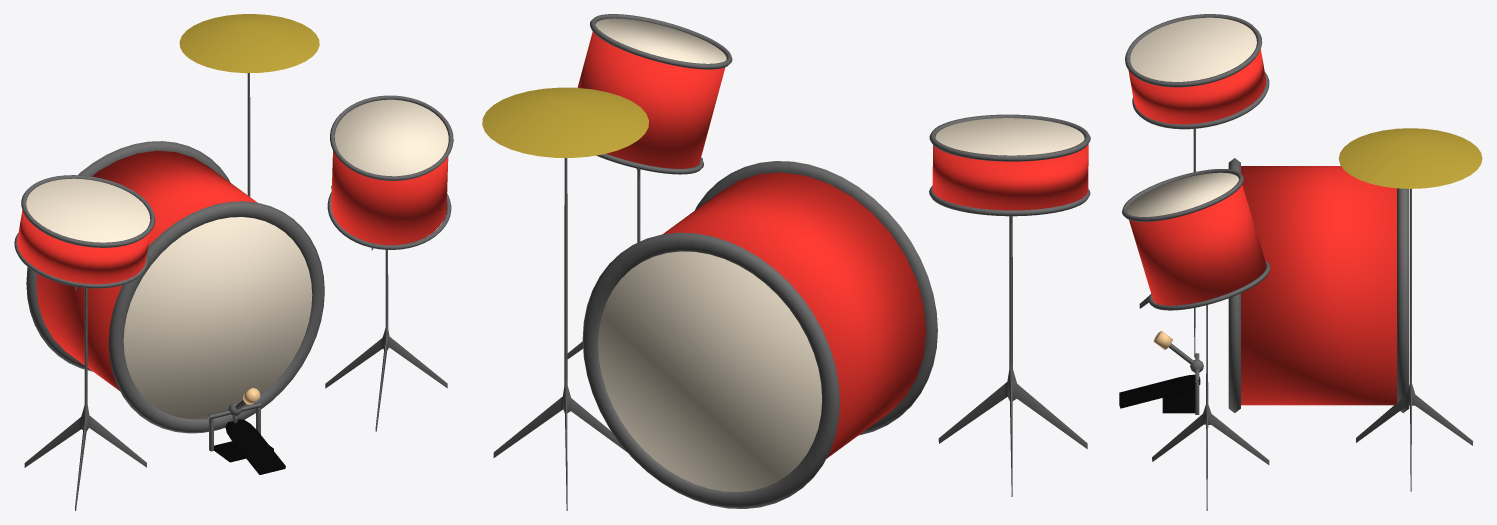
The model's file is drums2.fbx.
3 views of the same model, side by side, from view 1: azimuth 30°, elevation 25°; view 2: azimuth 150°, elevation 25°; view 3: azimuth 270°, elevation 25° (orthographic). The views are drawn at different scales.
Visible parts, largest first — view 1: Kick, dunno, some drum, Snare, rim 2, Cone, rim 1, Cube, Cube.001, Cube.003, rim 1.001, Torus.002, Torus.001 (+1 smaller); view 2: Kick, dunno, some drum, rim 1, Snare, Cone, rim 2, Cube, Cube.002, rim 1.001, Torus.002, rim 2.001, Torus.001; view 3: Kick, dunno, some drum, Snare, Cone, rim 1, Cube.002, rim 1.001, rim 2, Cube.001, Torus.002, Cube.003, rim 2.001 (+2 smaller).
Boxes of the visible parts, x1,y1,x2,y2 form: Kick: (36,150,312,419); dunno, some drum: (331,99,448,245); Snare: (17,178,150,284); rim 2: (108,201,324,433); Cone: (179,14,319,73); rim 1: (26,141,230,371); Cube: (24,286,146,510); Cube.001: (325,186,447,431); Cube.003: (225,419,285,474); rim 1.001: (21,175,155,247); Torus.002: (330,95,453,180); Torus.001: (327,192,451,249); Kick: (598,172,925,491); dunno, some drum: (577,18,726,168); rim 1: (582,232,839,508); Snare: (932,118,1088,210); Cone: (482,87,648,157); rim 2: (695,161,937,435); Cube: (938,213,1087,496); Cube.002: (493,158,627,510); rim 1.001: (929,114,1090,161); Torus.002: (590,14,732,69); rim 2.001: (929,185,1090,216); Torus.001: (596,153,703,174); Kick: (1241,166,1396,405); dunno, some drum: (1127,172,1266,305); Snare: (1128,17,1265,124); Cone: (1338,128,1482,188); rim 1: (1397,188,1409,412); Cube.002: (1356,189,1473,491); rim 1.001: (1125,14,1262,87); rim 2: (1228,158,1240,412); Cube.001: (1152,304,1269,510); Torus.002: (1122,169,1243,221); Cube.003: (1119,374,1200,408); rim 2.001: (1132,72,1269,129).
Size of the model in its own units: 422 by 296 by 303.
